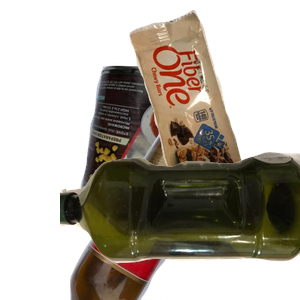glass: (67, 120, 282, 300)
metal: (78, 63, 266, 243)
plastic: (60, 149, 300, 300)
trash: (127, 10, 300, 190)
